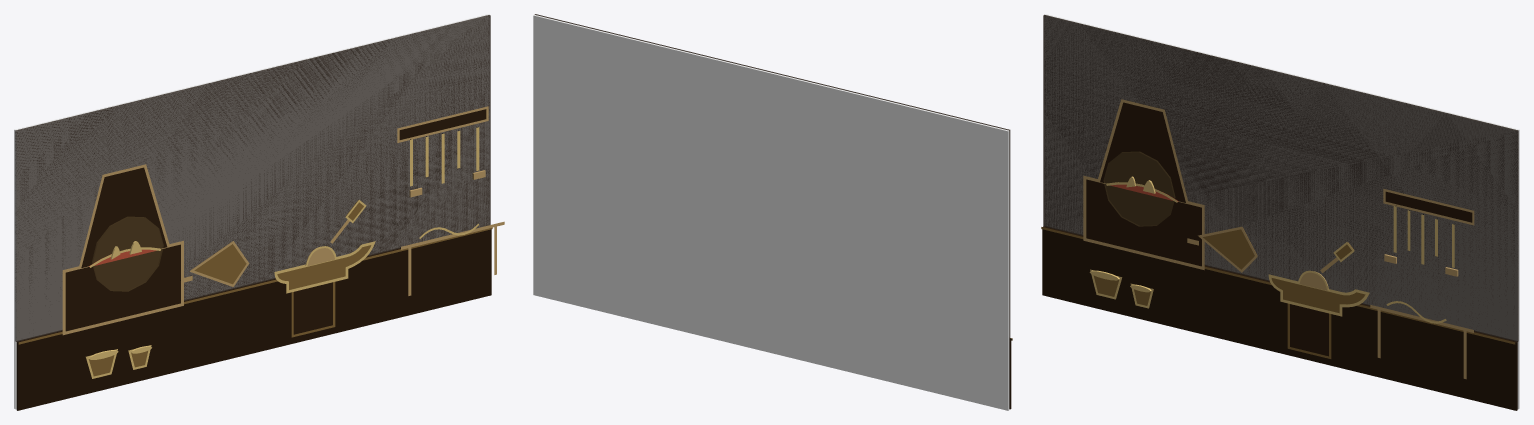
The model's file is loc-yuvelirnaya.glb.
3 views of the same model, side by side, from view 1: azimuth 30°, elevation 25°; view 2: azimuth 150°, elevation 25°; view 3: azimuth 330°, elevation 25° (orthographic).
Parts seen in each view (by area): view 1: loc-yuvelirnaya; view 2: loc-yuvelirnaya; view 3: loc-yuvelirnaya.
Boxes of the visible parts, x1,y1,x2,y2 form: loc-yuvelirnaya: (14,14,504,410); loc-yuvelirnaya: (533,14,1012,410); loc-yuvelirnaya: (1041,14,1519,410).
Bounding box in the file's own units: 5.33 × 3 × 0.621.
